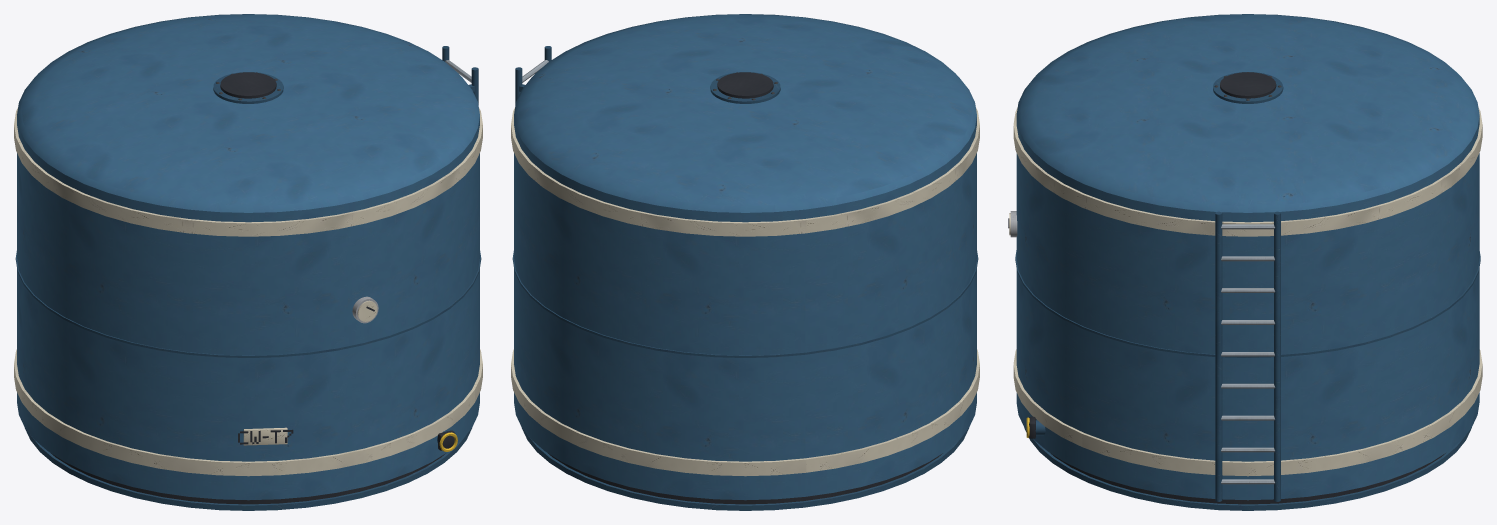
The model's file is tank_large.glb.
3 renders of one model, left to right at view 1: azimuth 30°, elevation 25°; view 2: azimuth 150°, elevation 25°; view 3: azimuth 270°, elevation 25°, orthographic.
Visible parts, largest first — view 1: TankLargeBody; view 2: TankLargeBody; view 3: TankLargeBody.
Boxes of the visible parts, box(x1,y1,x2,y2) form: TankLargeBody: box(14, 14, 482, 510); TankLargeBody: box(511, 14, 979, 510); TankLargeBody: box(1008, 14, 1482, 510).
Bounding box in the file's own units: 1.65 × 1.25 × 1.62.
Materials: 8 (8 with a texture image).
